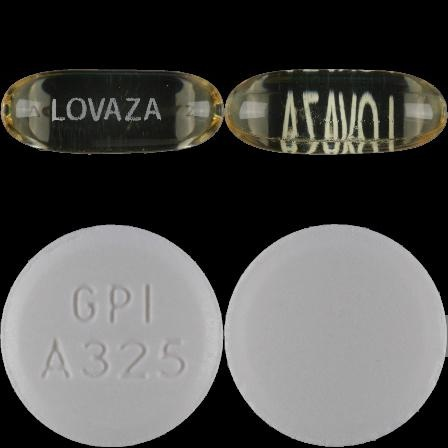55154-1134: (0, 0, 224, 224)
